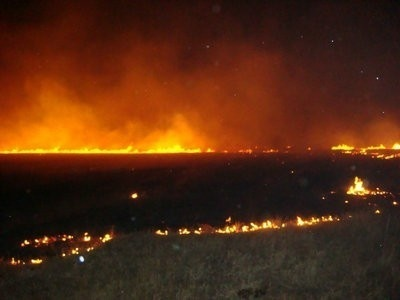fire: (150, 202, 345, 236), (10, 229, 117, 260)
